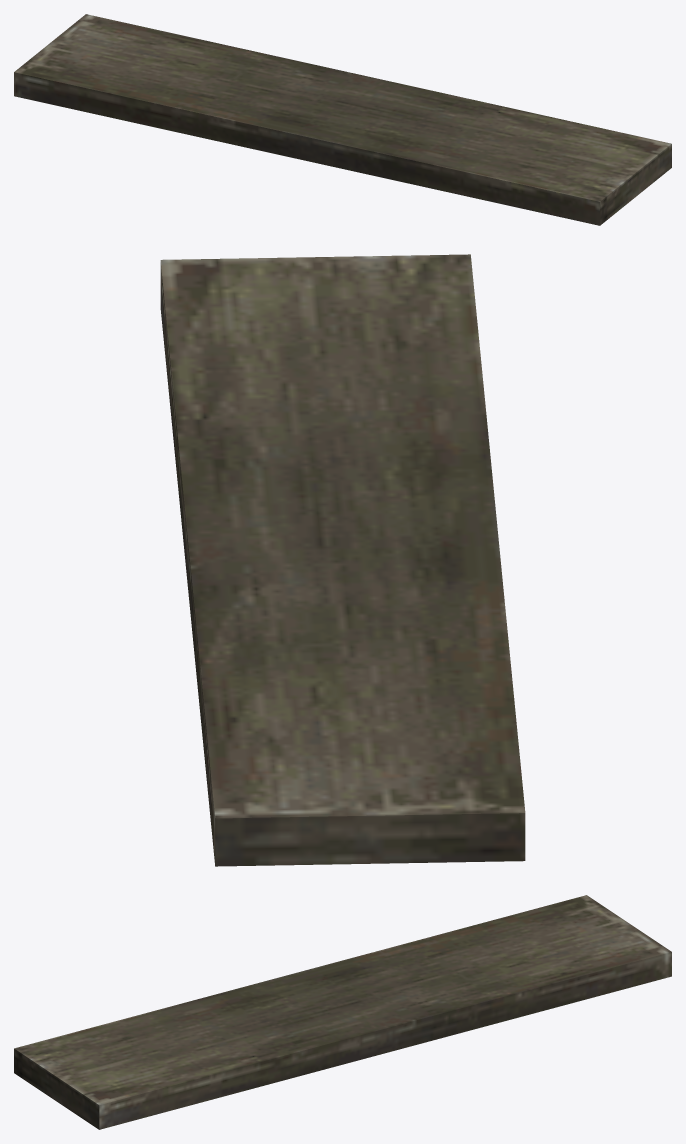
The model's file is 4005__Item_muban_1.FBX.
The picture shows the model from 3 angles, top to bottom: view 1: azimuth 30°, elevation 25°; view 2: azimuth 150°, elevation 25°; view 3: azimuth 270°, elevation 25°; orthographic projection. The views are drawn at different scales.
Parts seen in each view (by area): view 1: 4005__Item_muban_1; view 2: 4005__Item_muban_1; view 3: 4005__Item_muban_1.
Part boxes in pixels (x1,y1,x2,y2): 4005__Item_muban_1: (14,14,671,225); 4005__Item_muban_1: (160,254,525,866); 4005__Item_muban_1: (14,895,671,1129).
Bounding box in the file's own units: 111 × 6.09 × 147.
